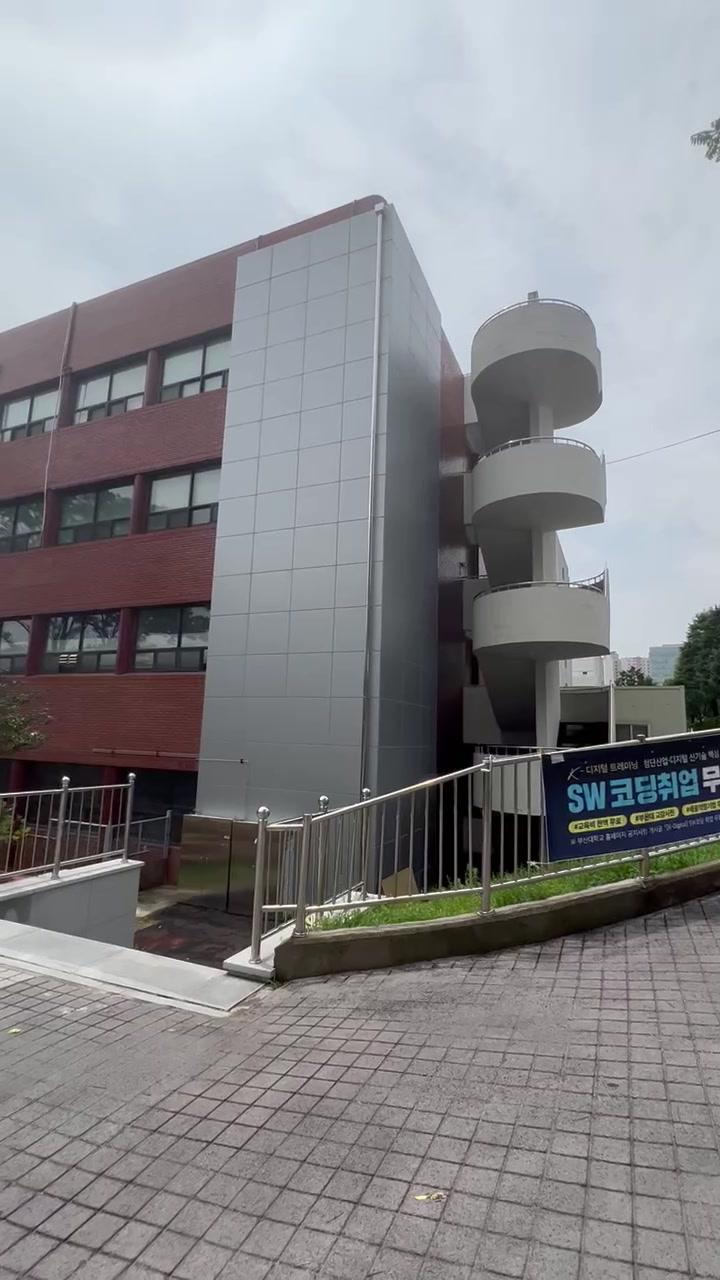building: (42, 212, 670, 770)
